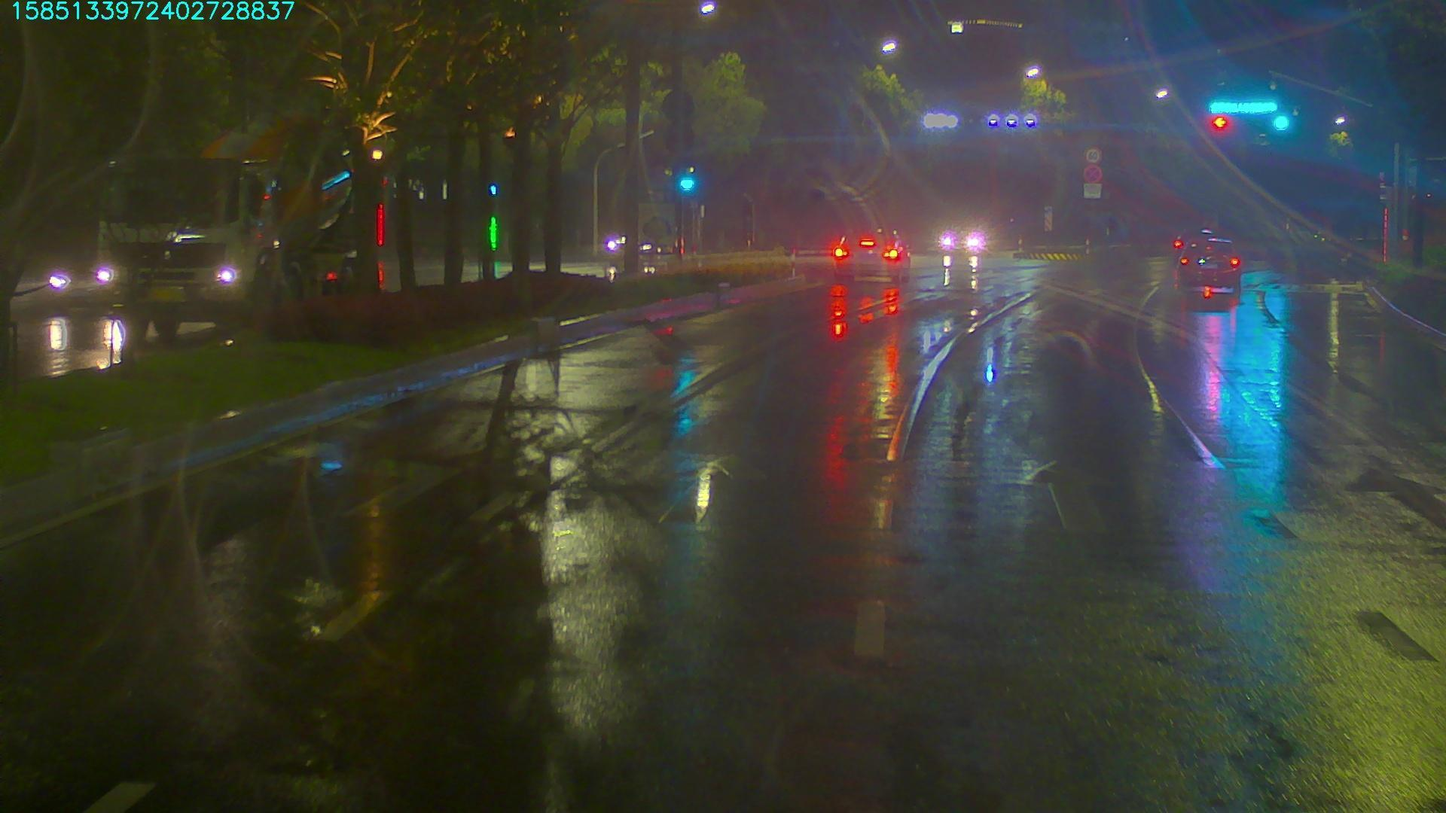green: (1272, 116, 1292, 134)
red: (1209, 113, 1229, 131)
wait_on: (1207, 96, 1280, 115)
